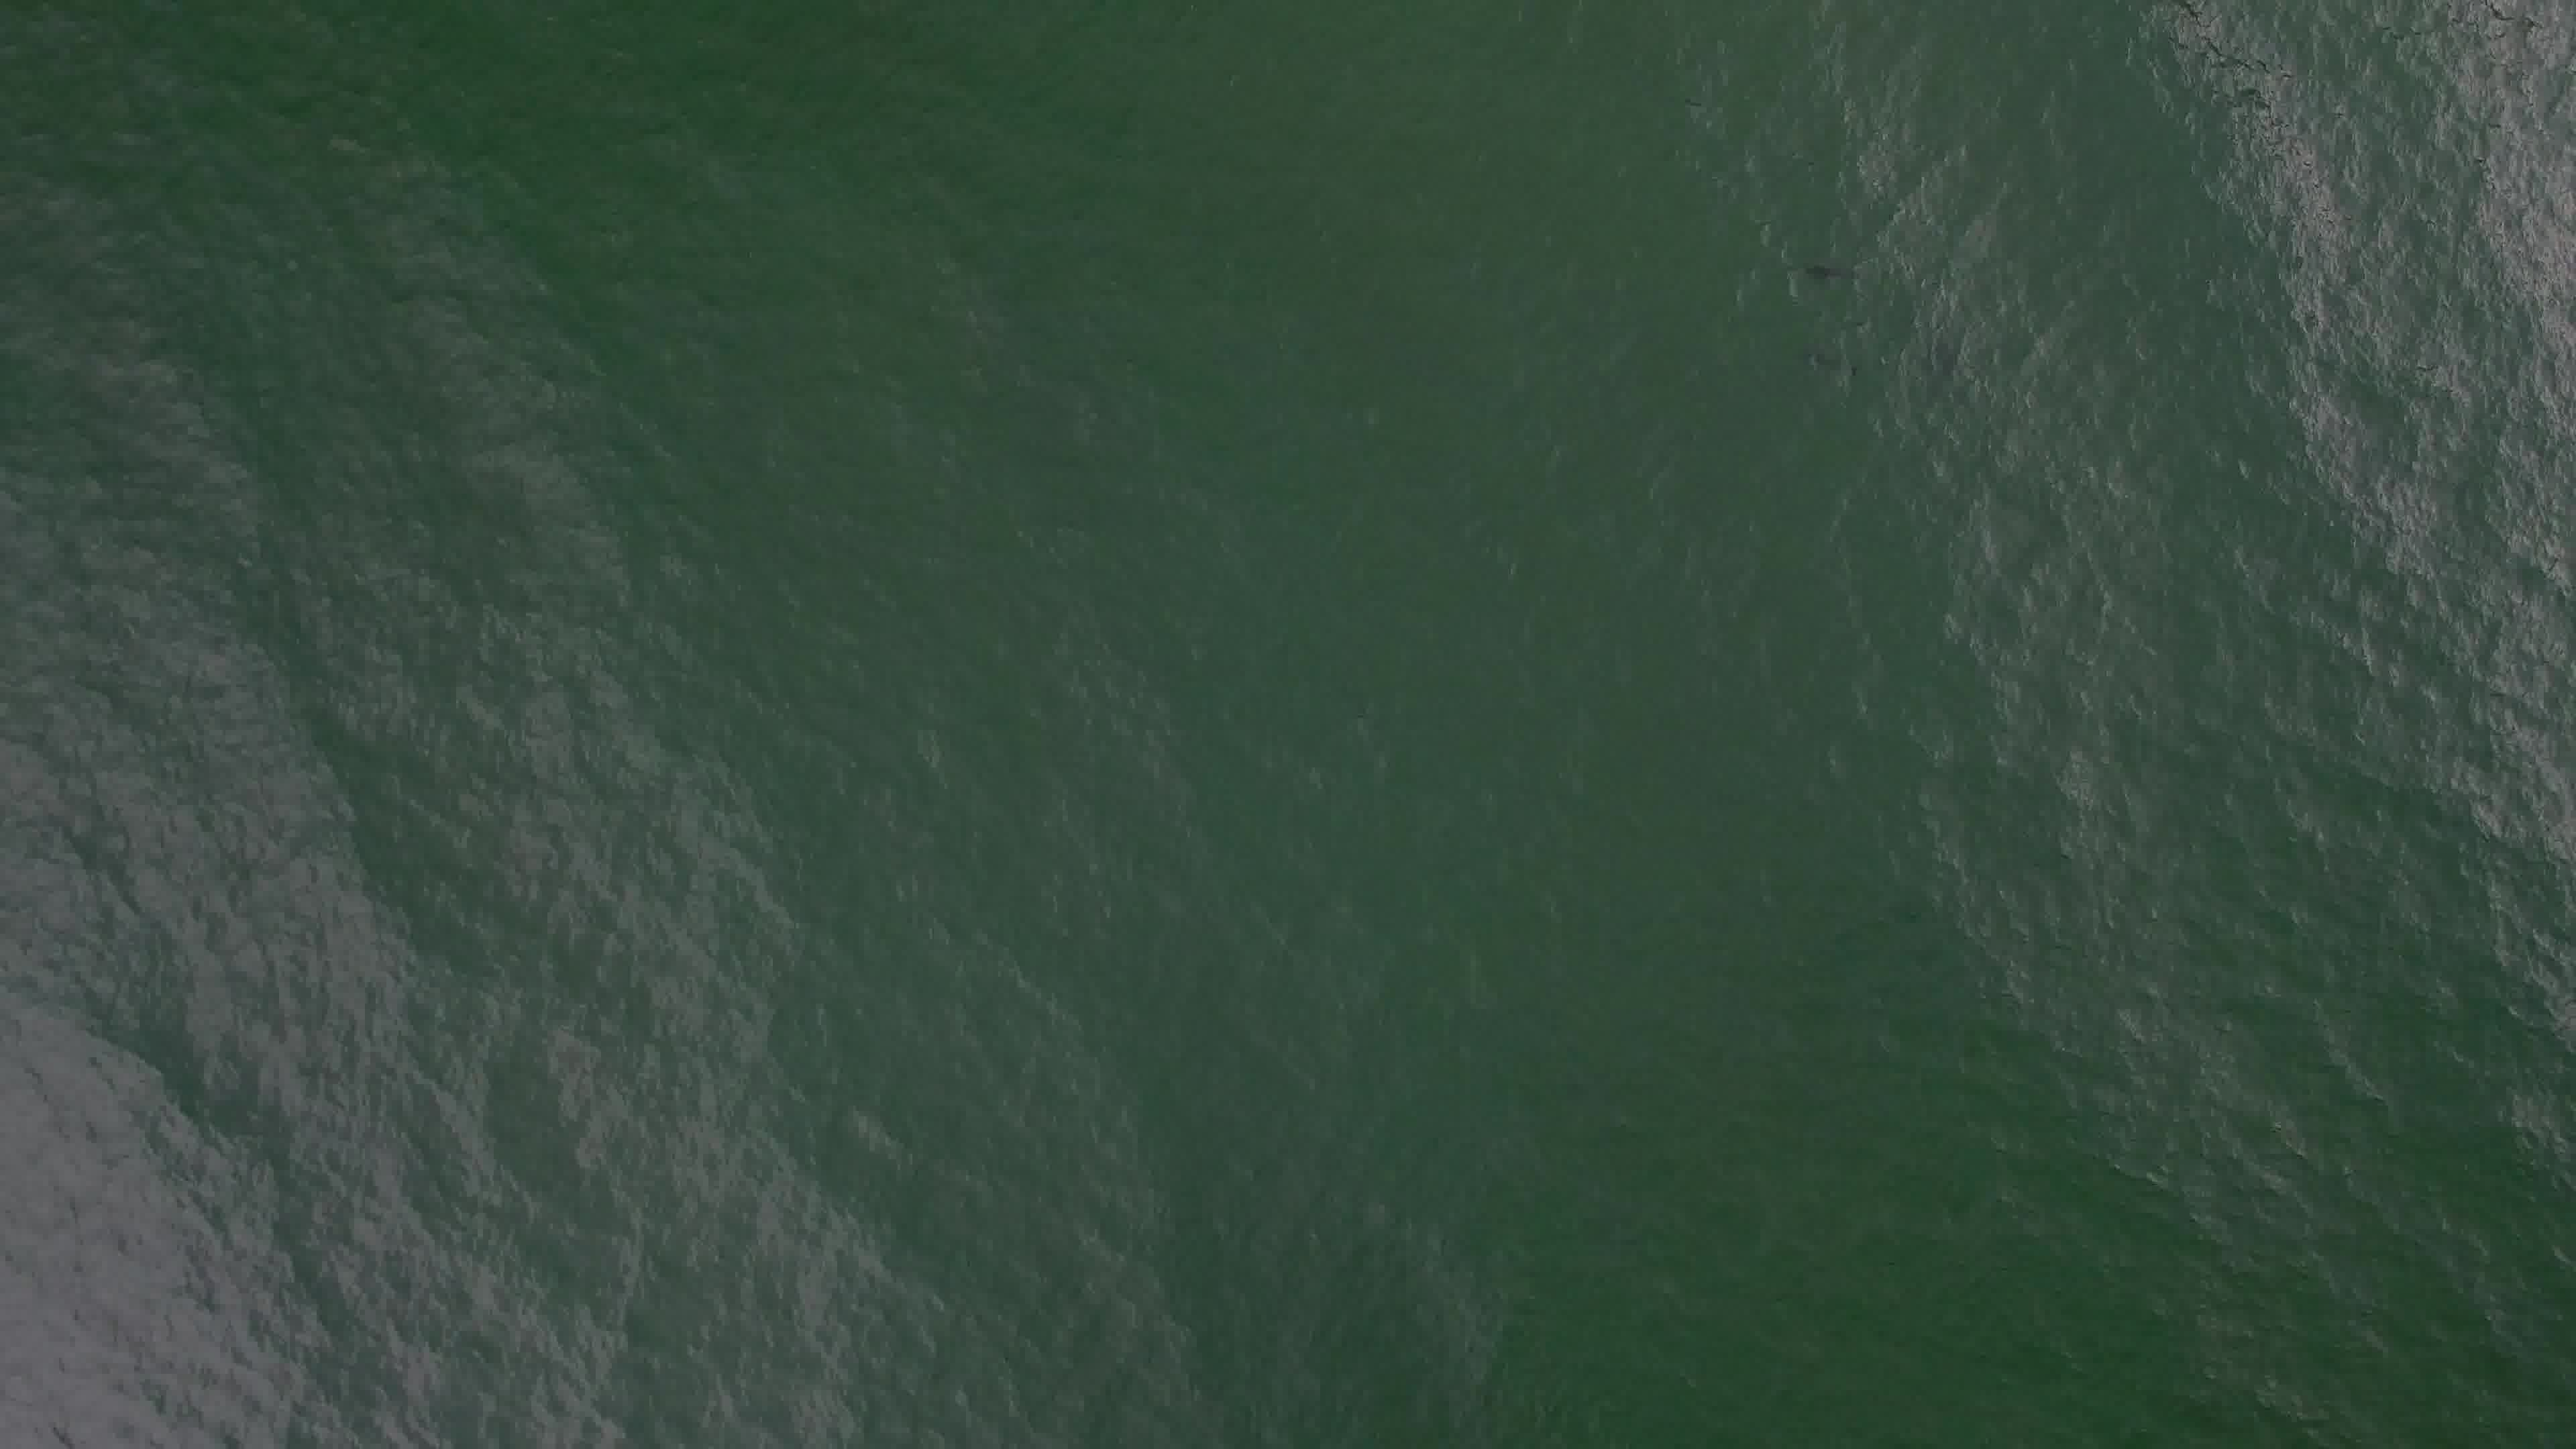dolphin: (1792, 315, 1870, 380), (1787, 244, 1870, 288)
